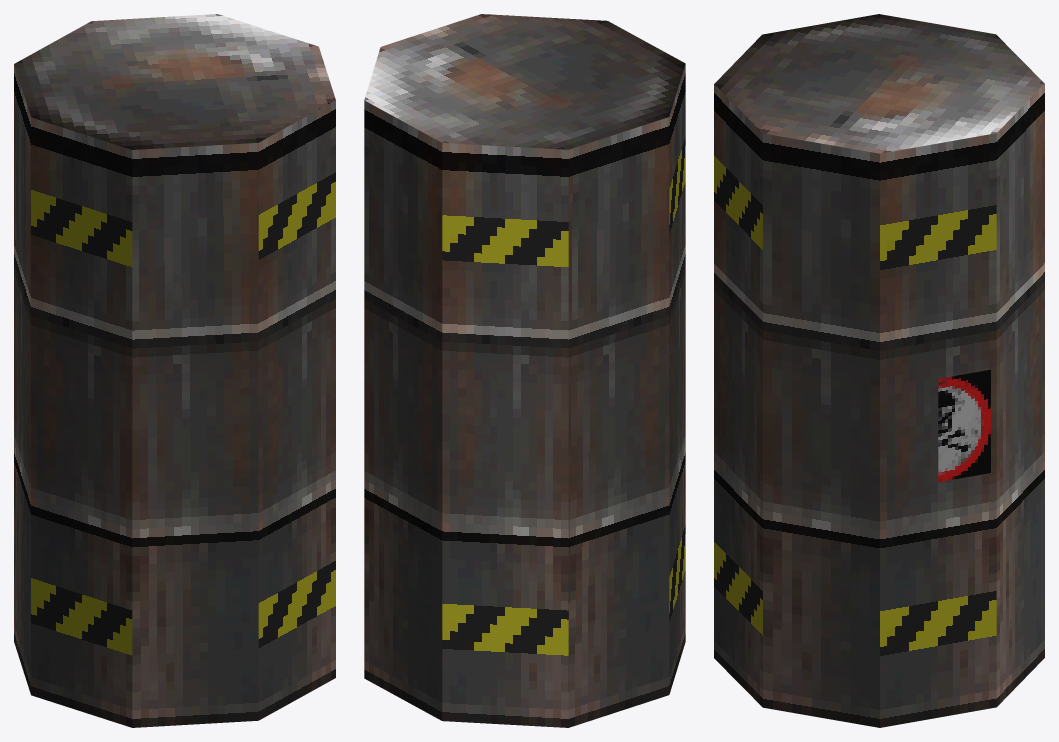
The model's file is primary_085.glb.
3 views of the same model, side by side, from view 1: azimuth 30°, elevation 25°; view 2: azimuth 150°, elevation 25°; view 3: azimuth 270°, elevation 25° (orthographic).
Visible parts, largest first — view 1: Object; view 2: Object; view 3: Object.
Boxes of the visible parts, x1,y1,x2,y2 form: Object: (14,14,335,727); Object: (364,14,685,727); Object: (714,14,1044,727).
Size of the model in its own units: 0.7804 by 1.5 by 0.7804.
9 materials, 9 textured.
